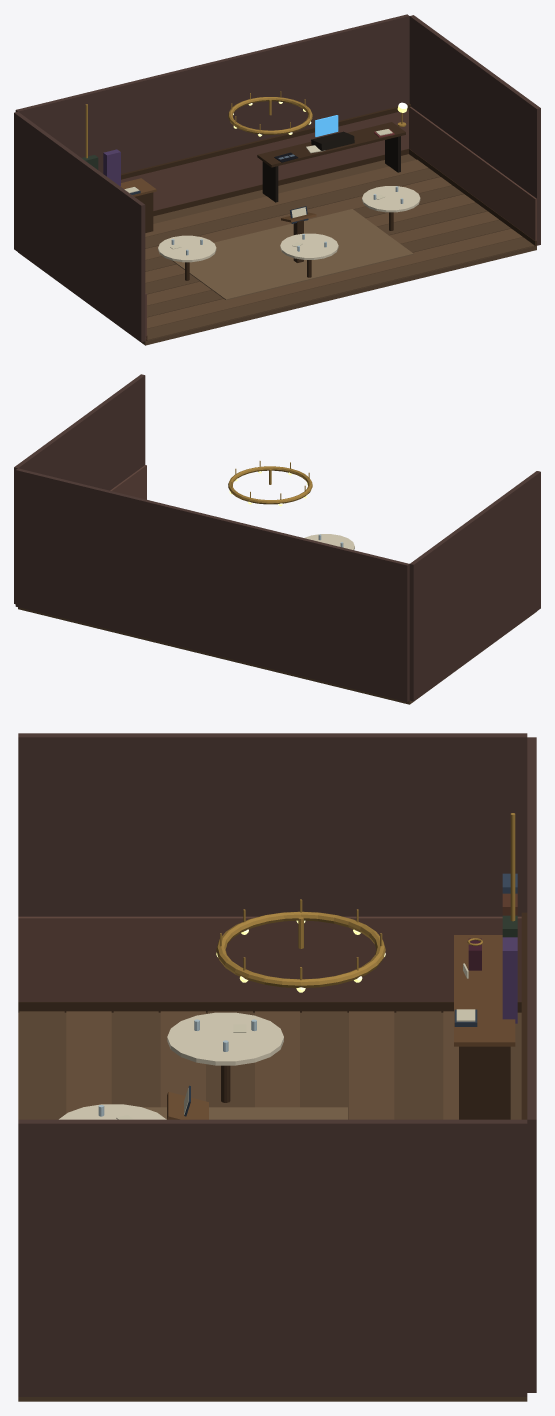
File: gala.glb
The picture shows the model from 3 angles, top to bottom: view 1: azimuth 30°, elevation 25°; view 2: azimuth 150°, elevation 25°; view 3: azimuth 270°, elevation 25°; orthographic projection. The views are drawn at different scales.
Visible parts, largest first — view 1: WallBack, WallLeft, WallRight, DanceFloor, BandBack, BandRight, Plank0, Plank1, Floor, Plank9, Plank8, Plank7 (+19 smaller); view 2: WallBack, WallLeft, WallRight, Floor, ChandRing, BandRight, TableTop2; view 3: WallRight, WallLeft, BandLeft, WallBack, Floor, CloakTop, Plank7, Plank8, Plank0, TableTop0, Plank6, Plank1 (+13 smaller).
Boxes of the visible parts, bbox=[...] form: WallBack: bbox=[15, 14, 409, 173]; WallLeft: bbox=[14, 111, 145, 342]; WallRight: bbox=[409, 15, 540, 245]; DanceFloor: bbox=[172, 209, 413, 300]; BandBack: bbox=[121, 109, 408, 210]; BandRight: bbox=[409, 107, 536, 240]; Plank0: bbox=[147, 237, 534, 340]; Plank1: bbox=[147, 228, 522, 328]; Floor: bbox=[18, 154, 536, 345]; Plank9: bbox=[145, 159, 428, 237]; Plank8: bbox=[145, 168, 440, 248]; Plank7: bbox=[145, 177, 452, 260]; WallBack: bbox=[15, 468, 409, 701]; WallLeft: bbox=[409, 471, 540, 701]; WallRight: bbox=[14, 374, 145, 604]; Floor: bbox=[18, 607, 536, 704]; ChandRing: bbox=[228, 466, 312, 504]; BandRight: bbox=[110, 465, 146, 499]; TableTop2: bbox=[304, 534, 354, 549]; WallRight: bbox=[18, 1119, 527, 1396]; WallLeft: bbox=[18, 733, 527, 916]; BandLeft: bbox=[18, 916, 521, 1001]; WallBack: bbox=[527, 737, 536, 1392]; Floor: bbox=[18, 1012, 527, 1401]; CloakTop: bbox=[454, 935, 515, 1046]; Plank7: bbox=[349, 1011, 394, 1119]; Plank8: bbox=[396, 1011, 441, 1119]; Plank0: bbox=[19, 1011, 64, 1119]; TableTop0: bbox=[167, 1012, 283, 1065]; Plank6: bbox=[302, 1011, 347, 1107]; Plank1: bbox=[66, 1011, 111, 1113].
Bounding box in the file's own units: 9.8 × 3.43 × 5.5.
